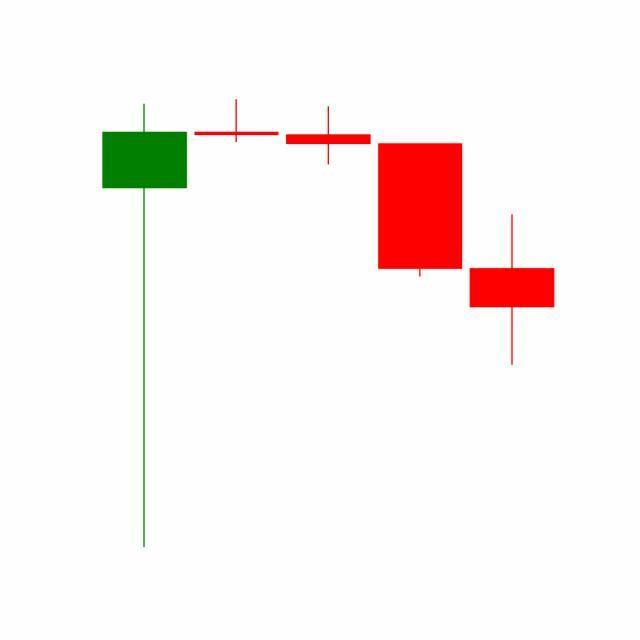Spinning Top: (466, 214, 559, 369)
